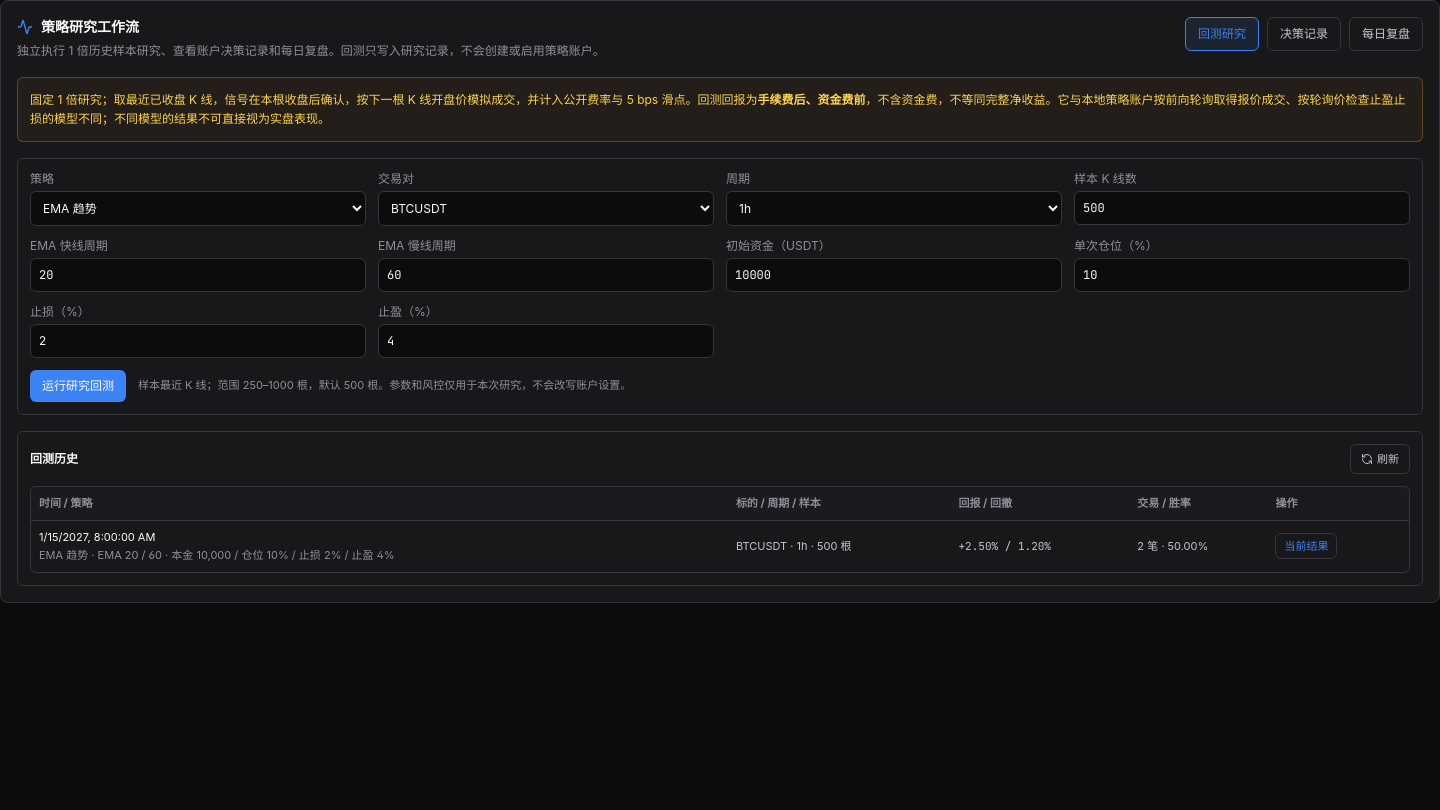
reports history errors without discarding the last available result
The image size is (1440, 810).
Click the button "刷新": (1380, 459) x1=1350 y1=444 x2=1410 y2=474
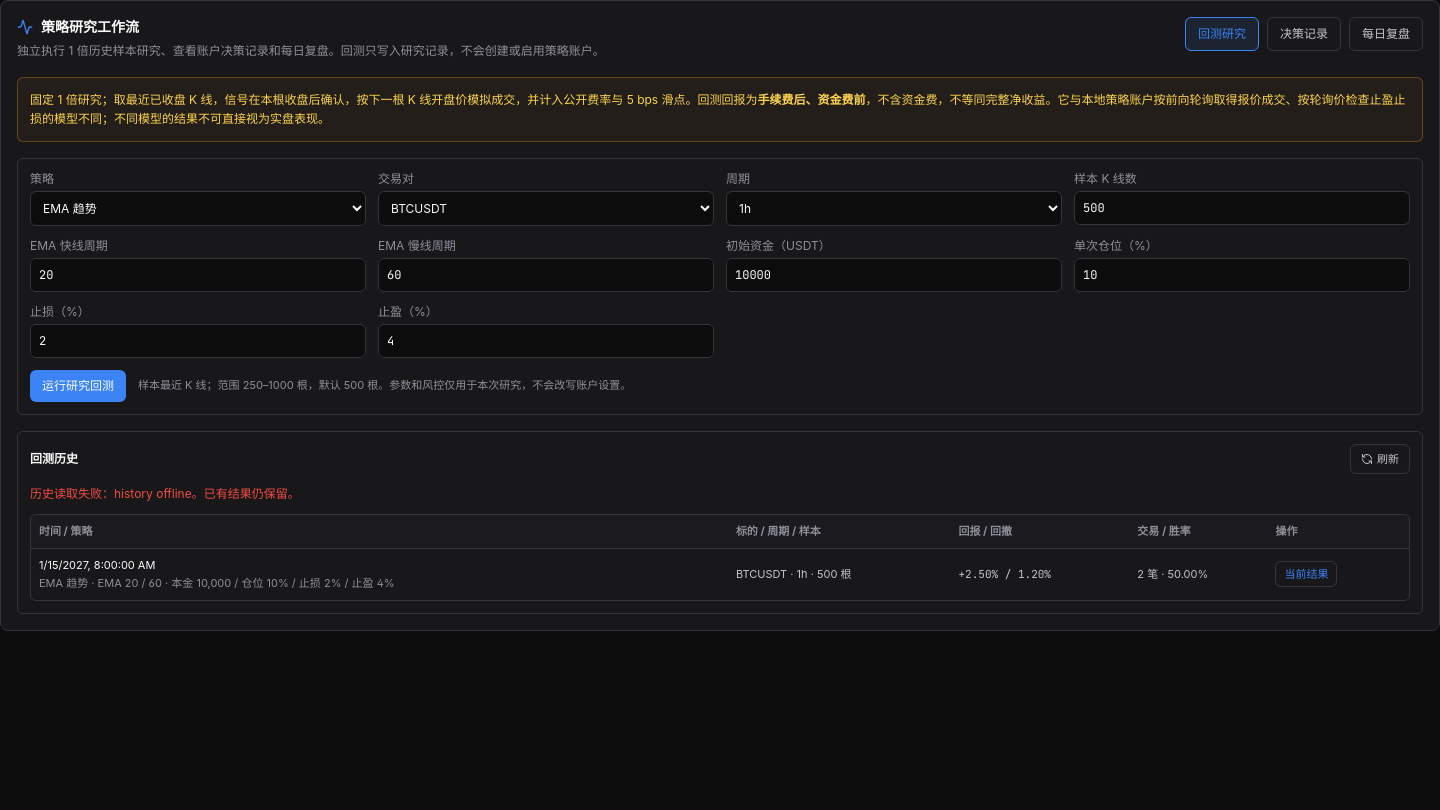
Check: the text "BTCUSDT · 1h · 500 根" is shown, box x1=735 y1=548 x2=958 y2=600
Check: the text "history offline" is shown, box x1=114 y1=486 x2=192 y2=501
